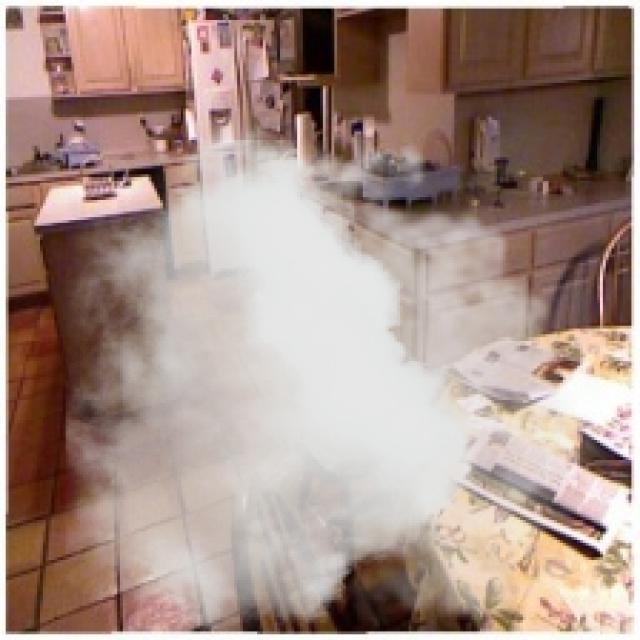smoke: (66, 109, 617, 632)
